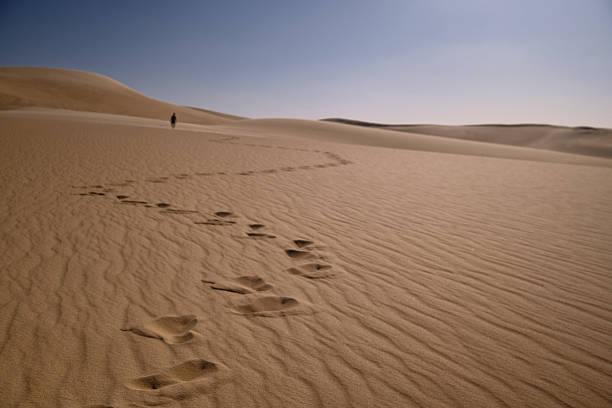human_footprint: (124, 358, 228, 391), (121, 315, 197, 343), (124, 188, 182, 216), (202, 275, 272, 293), (245, 299, 302, 315), (196, 207, 228, 228), (282, 246, 308, 270), (296, 227, 318, 251), (246, 228, 274, 246), (312, 264, 332, 286)
